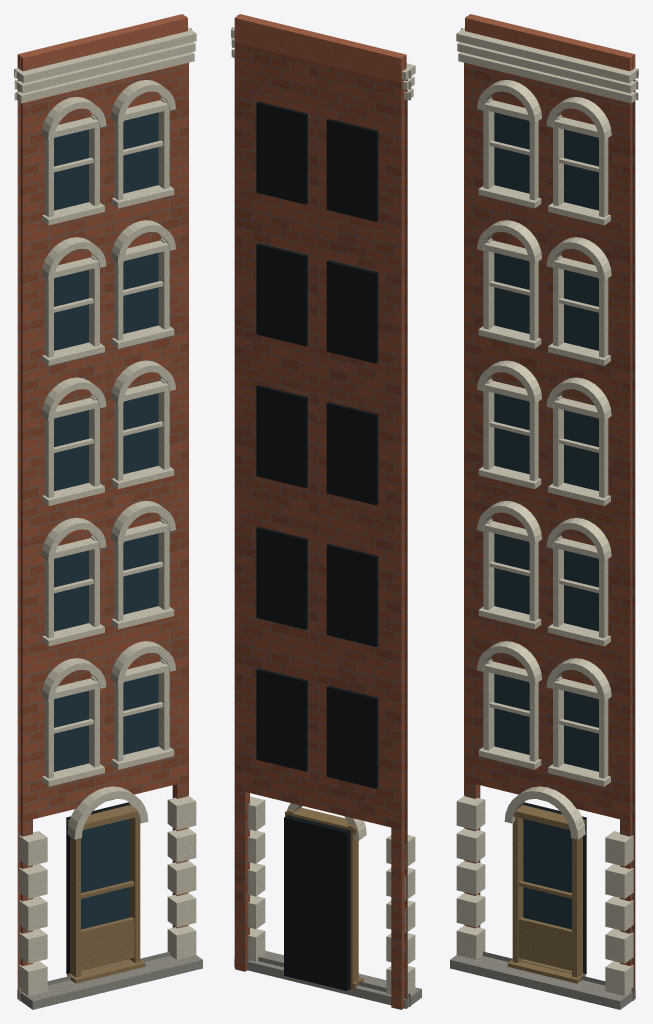
File: OFFC2_lod2.glb
The picture shows the model from 3 angles, left to right: view 1: azimuth 30°, elevation 25°; view 2: azimuth 150°, elevation 25°; view 3: azimuth 330°, elevation 25°; orthographic projection.
Visible parts, largest first — view 1: OFFC2_FRONT_LOD2; view 2: OFFC2_FRONT_LOD2; view 3: OFFC2_FRONT_LOD2.
Boxes of the visible parts, x1,y1,x2,y2 form: OFFC2_FRONT_LOD2: (14, 14, 202, 1009); OFFC2_FRONT_LOD2: (231, 14, 421, 1009); OFFC2_FRONT_LOD2: (450, 14, 638, 1009).
Bounding box in the file's own units: 3.44 × 17.45 × 0.68.
8 materials, 6 textured.
